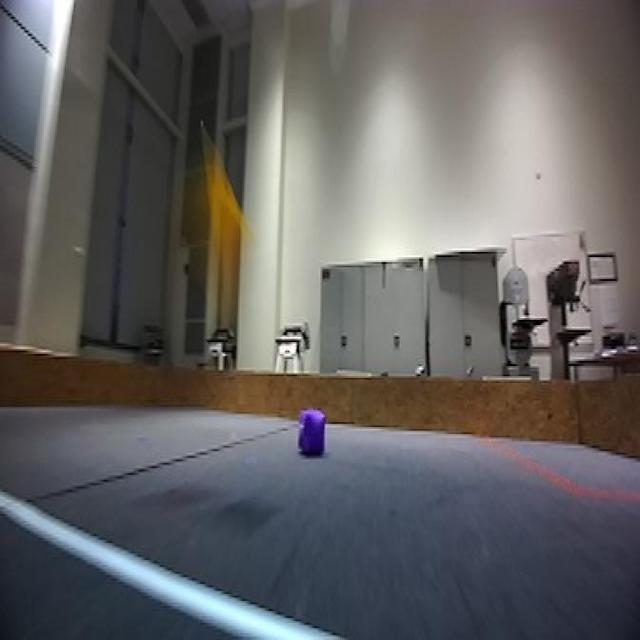frc_cone: (192, 141, 250, 281)
frc_cube: (296, 410, 328, 463)
